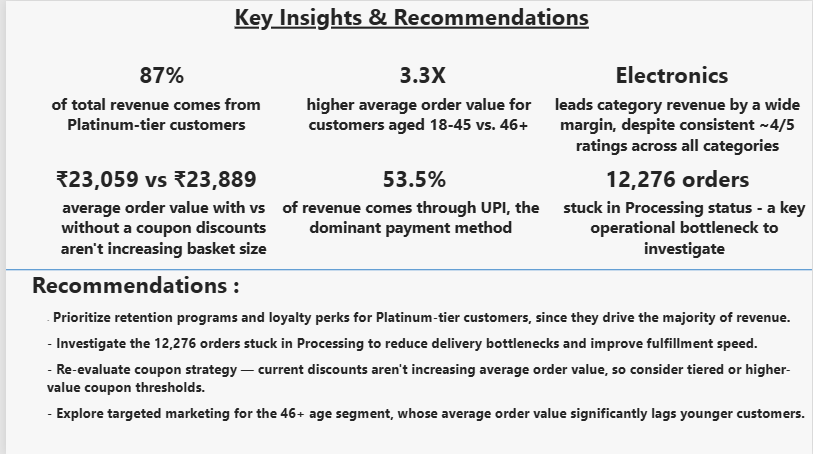

This screenshot's page, from the dashboard's own definition file:
{"tool":"powerbi","page":{"name":"key insights","canvas":[1920,1080],"ordinal":5},"visuals":[{"type":"textbox","box":[11.1,0,1908.3,108.3],"z":0},{"type":"textbox","box":[11.1,138.9,719.4,80.6],"z":1},{"type":"textbox","box":[97.2,219.4,519.4,113.9],"z":2},{"type":"textbox","box":[0,661.1,730.6,66.7],"z":3},{"type":"textbox","box":[730.6,138.9,522.2,80.6],"z":4},{"type":"textbox","box":[711.1,219.4,541.7,113.9],"z":5},{"type":"textbox","box":[1252.8,138.9,666.7,80.6],"z":6},{"type":"textbox","box":[1275,219.4,644.4,166.7],"z":7},{"type":"textbox","box":[97.2,386.1,519.4,77.8],"z":8},{"type":"textbox","box":[97.2,463.9,555.6,175],"z":9},{"type":"textbox","box":[711.1,386.1,522.2,77.8],"z":10},{"type":"textbox","box":[652.8,463.9,622.2,150],"z":11},{"type":"textbox","box":[1275,386.1,644.4,100],"z":12},{"type":"textbox","box":[1308.3,463.9,611.1,150],"z":13},{"type":"textbox","box":[0,638.9,616.7,88.9],"z":14},{"type":"textbox","box":[97.2,727.8,1822.2,322.2],"z":15},{"type":"shape","box":[0,519.4,1919.4,241.7],"z":16}]}

Visuals, with their boxes in screenshot pixels (x1, y1, x2, y2), scaled from the page's 1920x1080 canvas onto the 813x454 screenshot:
textbox: rect(5, 0, 812, 46)
textbox: rect(5, 58, 309, 92)
textbox: rect(41, 92, 261, 140)
textbox: rect(0, 278, 309, 306)
textbox: rect(309, 58, 530, 92)
textbox: rect(301, 92, 530, 140)
textbox: rect(530, 58, 812, 92)
textbox: rect(540, 92, 812, 162)
textbox: rect(41, 162, 261, 195)
textbox: rect(41, 195, 276, 269)
textbox: rect(301, 162, 522, 195)
textbox: rect(276, 195, 540, 258)
textbox: rect(540, 162, 812, 204)
textbox: rect(554, 195, 812, 258)
textbox: rect(0, 269, 261, 306)
textbox: rect(41, 306, 812, 441)
shape: rect(0, 218, 812, 320)
